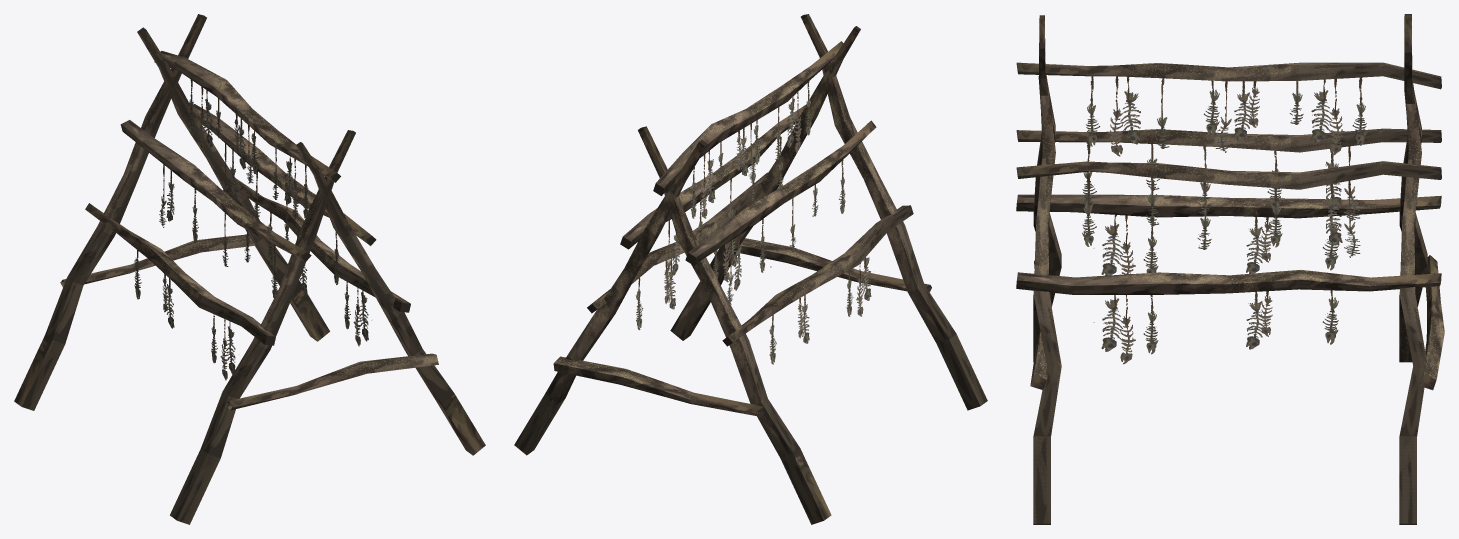
File: Fish_drying_rack02.fbx
3 renders of one model, left to right at view 1: azimuth 30°, elevation 25°; view 2: azimuth 150°, elevation 25°; view 3: azimuth 270°, elevation 25°, orthographic. The views are drawn at different scales.
Parts seen in each view (by area): view 1: Fish_drying_rack02; view 2: Fish_drying_rack02; view 3: Fish_drying_rack02.
Boxes of the visible parts, x1=… form: Fish_drying_rack02: x1=14, y1=14, x2=485, y2=524; Fish_drying_rack02: x1=514, y1=14, x2=987, y2=524; Fish_drying_rack02: x1=1016, y1=14, x2=1444, y2=524.
Size of the model in its own units: 2.29 by 2.49 by 2.34.
1 material, 1 textured.
